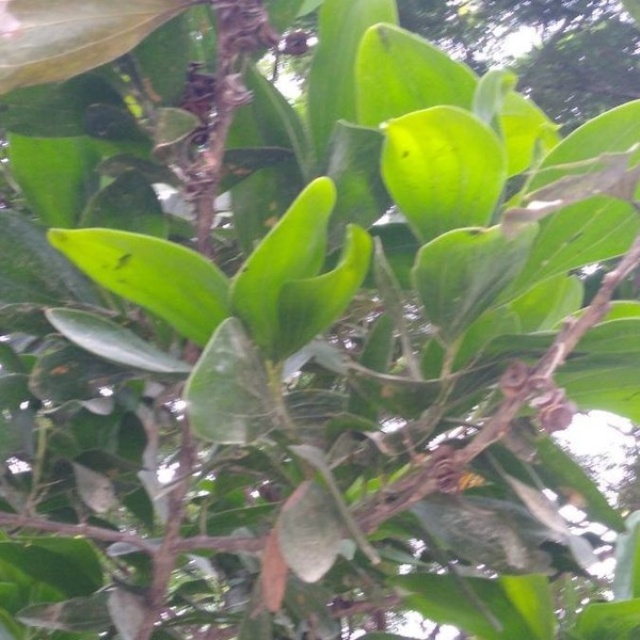obstacle: (64, 132, 403, 566), (362, 9, 596, 513)
